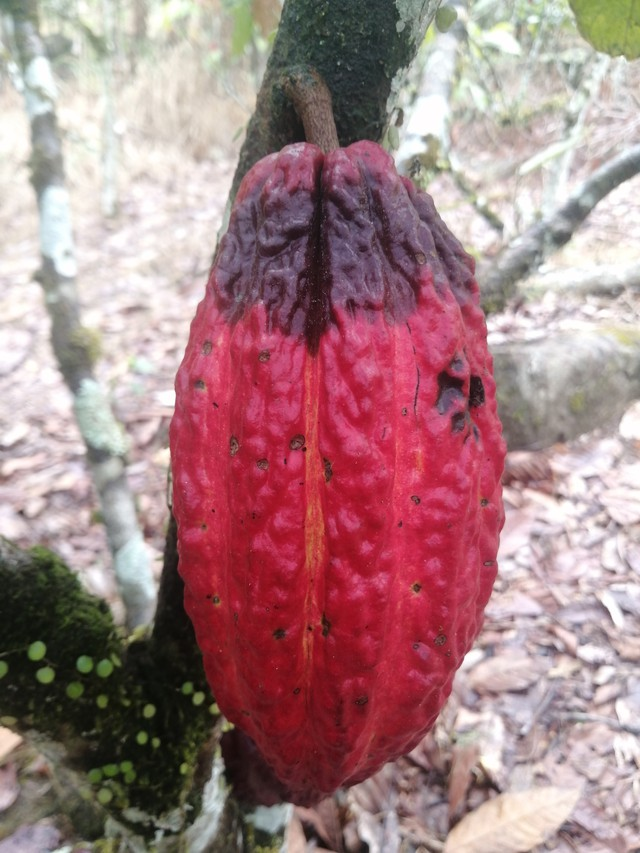phytophthora palmivora: (156, 132, 544, 818)
